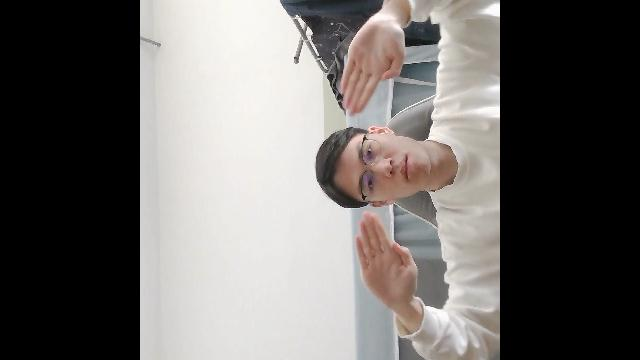five: (336, 13, 407, 118), (353, 209, 421, 312)
